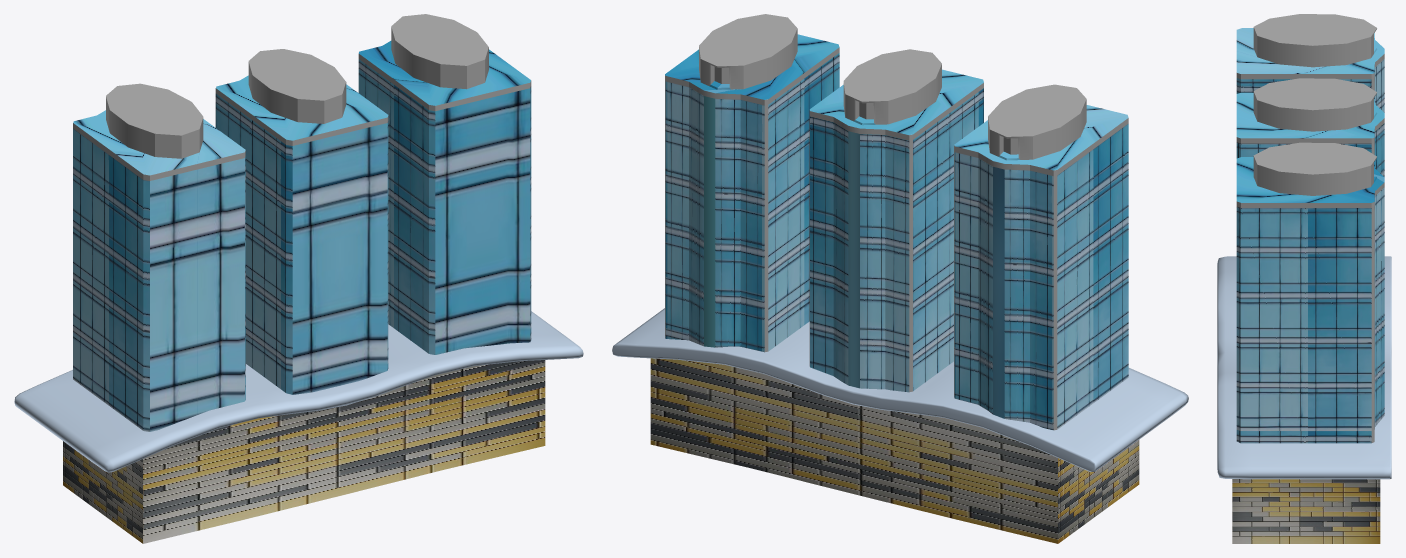
The model's file is centaurus 3.fbx.
The picture shows the model from 3 angles, left to right: view 1: azimuth 30°, elevation 25°; view 2: azimuth 150°, elevation 25°; view 3: azimuth 270°, elevation 25°; orthographic projection. The views are drawn at different scales.
Parts seen in each view (by area): view 1: Cube.001, Cube.002, Cube; view 2: Cube.001, Cube.002, Cube; view 3: Cube.001, Cube, Cube.002.
Part boxes in pixels (x1,y1,x2,y2): Cube.001: (73, 14, 531, 431); Cube.002: (63, 360, 545, 543); Cube: (14, 311, 583, 472); Cube.001: (665, 14, 1128, 430); Cube.002: (650, 358, 1139, 543); Cube: (612, 308, 1188, 471); Cube.001: (1236, 14, 1384, 443); Cube: (1217, 256, 1391, 479); Cube.002: (1232, 479, 1380, 543).
Bounding box in the file's own units: 410 × 319 × 140.
Materials: 5 (2 with a texture image).
